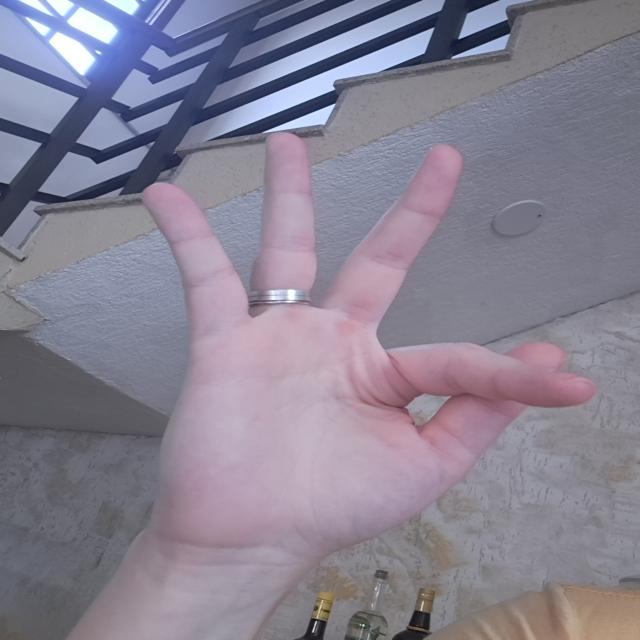F: (138, 110, 606, 563)
